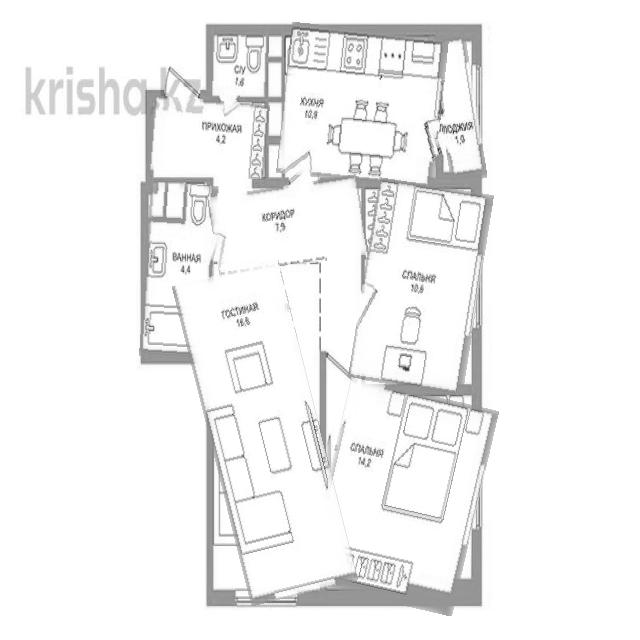balcony: (434, 34, 481, 182)
bathroom: (142, 182, 216, 359), (212, 33, 268, 101)
hallway: (210, 180, 366, 271), (147, 98, 269, 177)
kitchen: (280, 26, 445, 186)
living_room: (191, 264, 339, 602), (315, 384, 488, 609), (356, 181, 486, 392)
